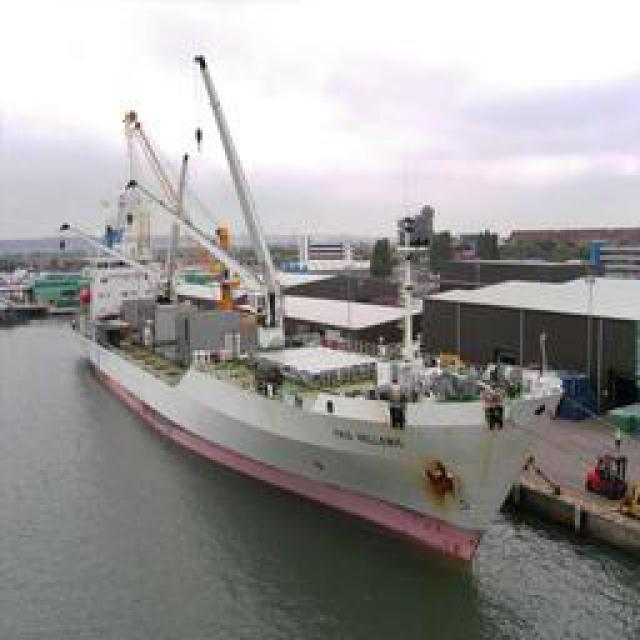Ship: (66, 67, 561, 567)
